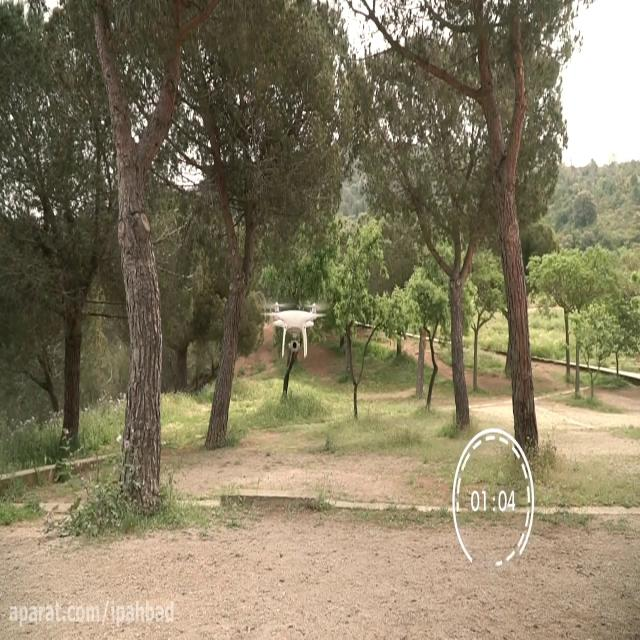drone: (256, 297, 330, 359)
